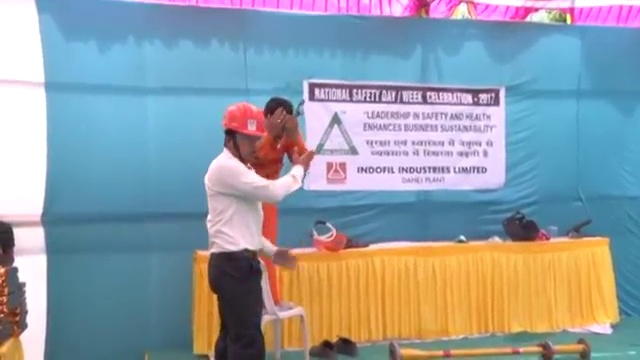helmet: (219, 101, 268, 138)
helmet_off: (262, 94, 298, 131)
helmet_on: (217, 100, 269, 164)
person: (201, 100, 311, 360), (246, 85, 313, 296)
